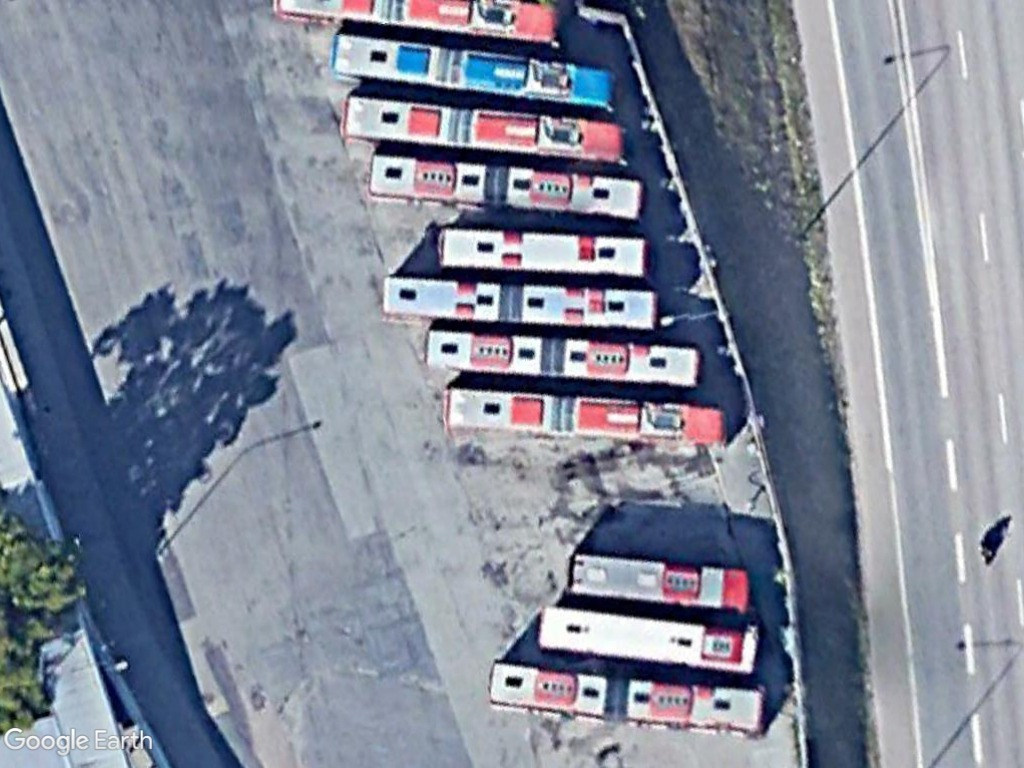bus: (329, 30, 622, 115), (334, 87, 632, 166), (422, 320, 711, 389), (365, 151, 647, 220), (439, 379, 733, 444), (376, 272, 665, 334), (536, 603, 769, 676), (434, 221, 654, 278), (569, 550, 758, 616), (622, 679, 773, 740), (484, 656, 617, 722)
